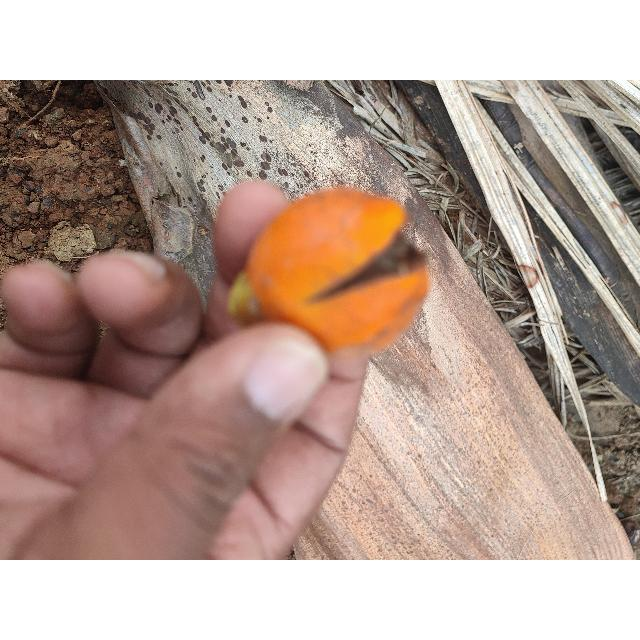damaged: (233, 186, 429, 377)
